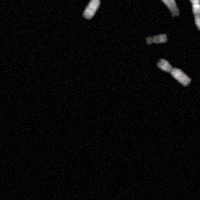chromosome: (156, 59, 191, 87), (133, 0, 179, 17), (184, 0, 200, 30), (82, 0, 104, 19), (146, 33, 165, 45)
